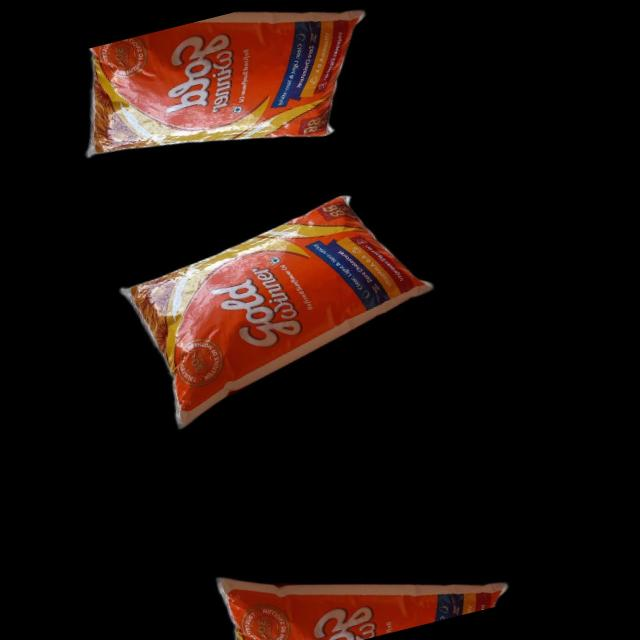Gold Oil: (110, 178, 449, 434), (60, 0, 388, 191), (192, 510, 509, 640)
